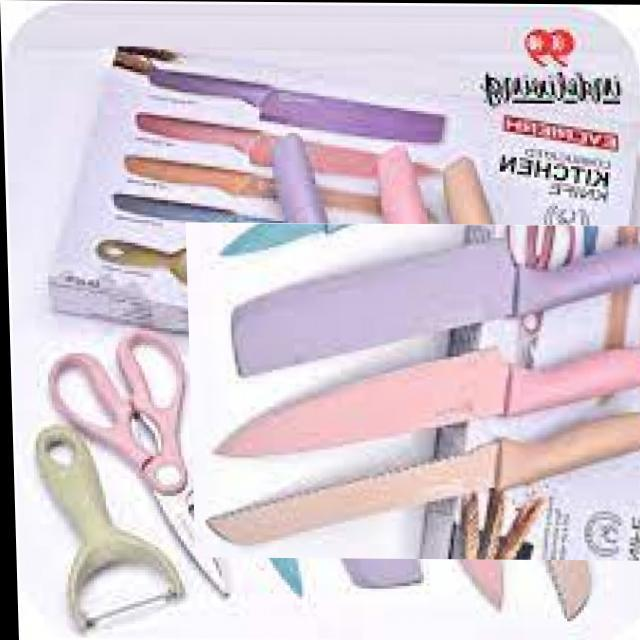knife: (230, 236, 640, 380), (210, 413, 640, 548), (215, 344, 637, 462)
